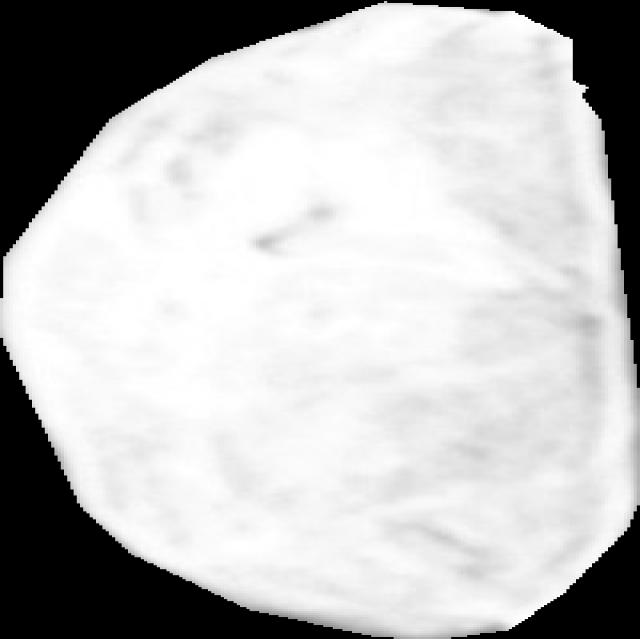tumor_moderate_chance: (0, 1, 640, 639)
